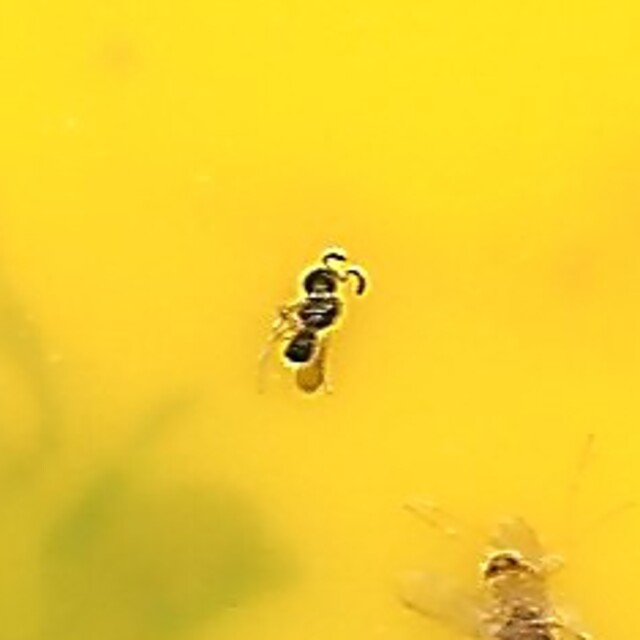Hymenoptera: (272, 248, 368, 392)
